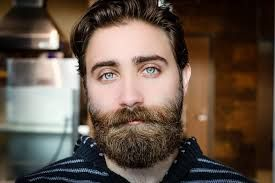no-mask: (63, 4, 203, 167)
